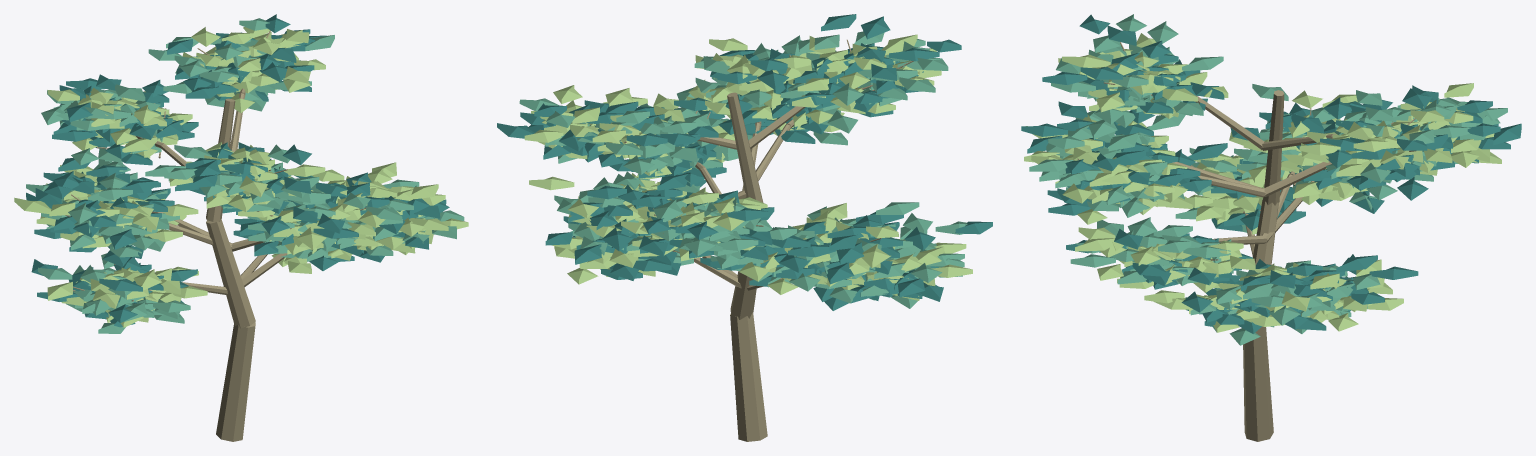
Rendered from scholar-tree.glb.
3 renders of one model, left to right at view 1: azimuth 30°, elevation 25°; view 2: azimuth 150°, elevation 25°; view 3: azimuth 270°, elevation 25°, orthographic. The views are drawn at different scales.
Visible parts, largest first — view 1: Sunwen_scholar-tree; view 2: Sunwen_scholar-tree; view 3: Sunwen_scholar-tree.
Part boxes in pixels (bbox=[...]): Sunwen_scholar-tree: bbox=[14, 14, 468, 441]; Sunwen_scholar-tree: bbox=[497, 14, 992, 441]; Sunwen_scholar-tree: bbox=[1021, 14, 1521, 441].
Bounding box in the file's own units: 4.78 × 4.08 × 5.1.
